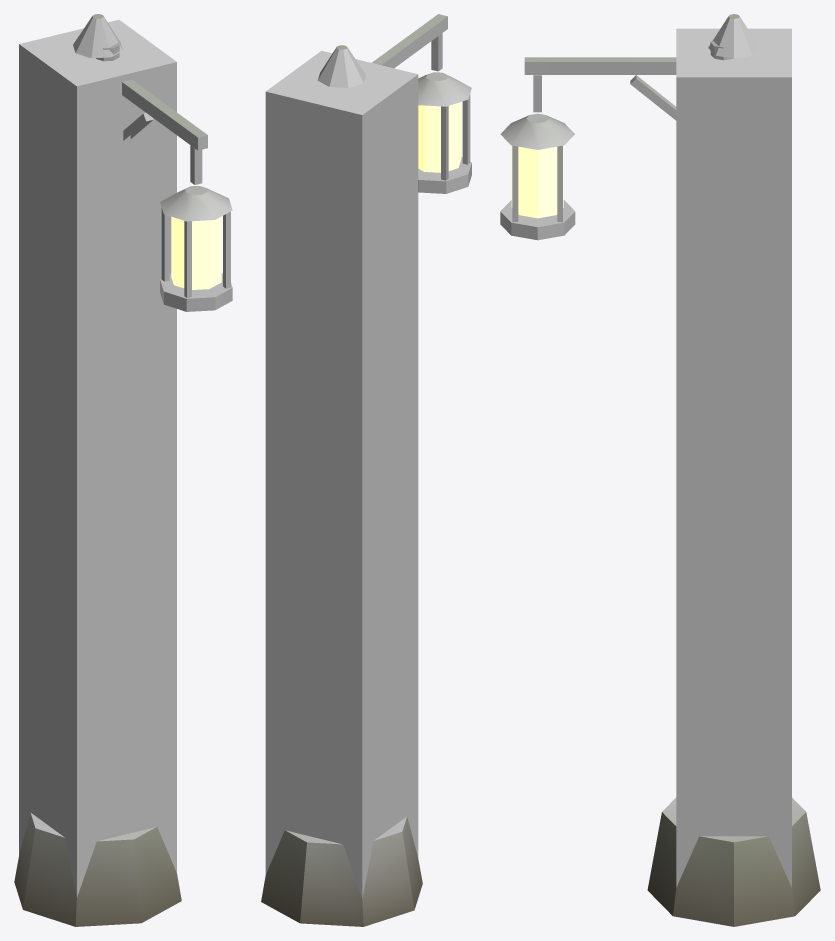
Rendered from prop_lamp_post_iron.glb.
The picture shows the model from 3 angles, left to right: view 1: azimuth 30°, elevation 25°; view 2: azimuth 150°, elevation 25°; view 3: azimuth 270°, elevation 25°; orthographic projection. The views are drawn at different scales.
Visible parts, largest first — view 1: col_lamp_post, lamp_post, lantern; view 2: col_lamp_post, lamp_post, lantern; view 3: col_lamp_post, lamp_post, lantern.
Boxes of the visible parts, bbox=[...] form: col_lamp_post: bbox=[19, 20, 176, 897]; lamp_post: bbox=[14, 14, 207, 926]; lantern: bbox=[160, 145, 232, 311]; col_lamp_post: bbox=[265, 50, 418, 898]; lamp_post: bbox=[261, 14, 447, 926]; lantern: bbox=[418, 33, 471, 193]; col_lamp_post: bbox=[676, 28, 791, 887]; lamp_post: bbox=[524, 14, 820, 926]; lantern: bbox=[500, 75, 575, 240].
Size of the model in its own units: 0.6 by 3.34 by 1.11.
